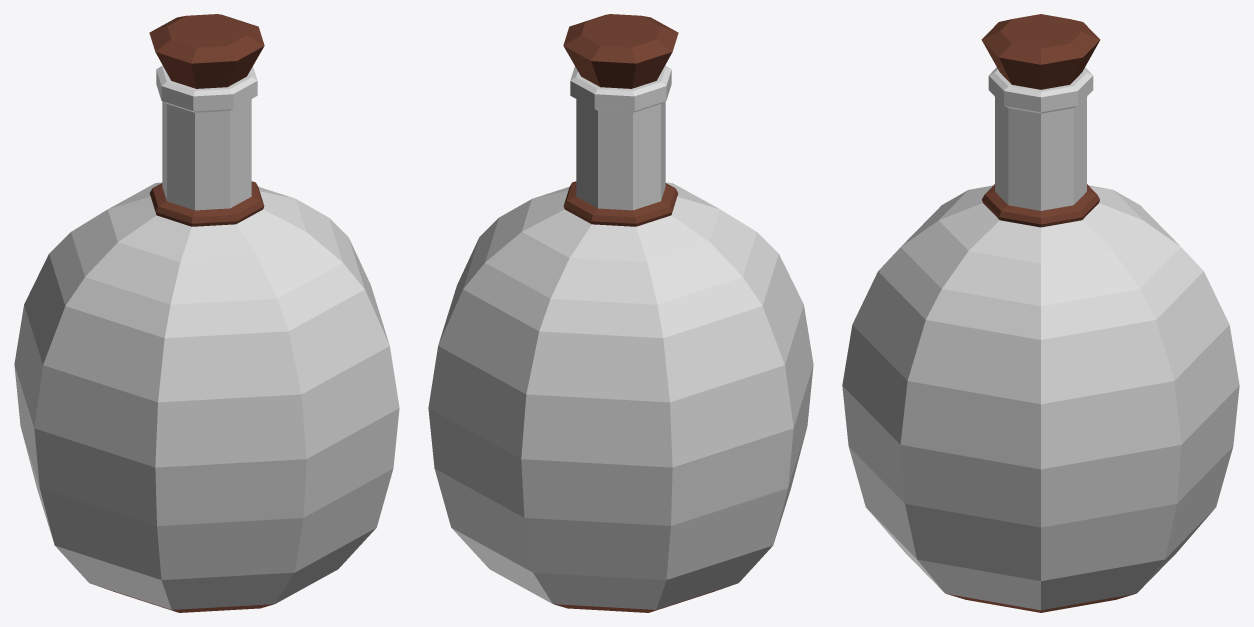
Rendered from Pot_Base.fbx.
The picture shows the model from 3 angles, left to right: view 1: azimuth 30°, elevation 25°; view 2: azimuth 150°, elevation 25°; view 3: azimuth 270°, elevation 25°; orthographic projection.
Parts seen in each view (by area): view 1: Cylinder.002; view 2: Cylinder.002; view 3: Cylinder.002.
Boxes of the visible parts, box(x1,y1,x2,y2) form: Cylinder.002: box(14, 14, 399, 612); Cylinder.002: box(428, 14, 813, 612); Cylinder.002: box(842, 14, 1239, 612).
Size of the model in its own units: 33.24 by 49.54 by 33.24.
